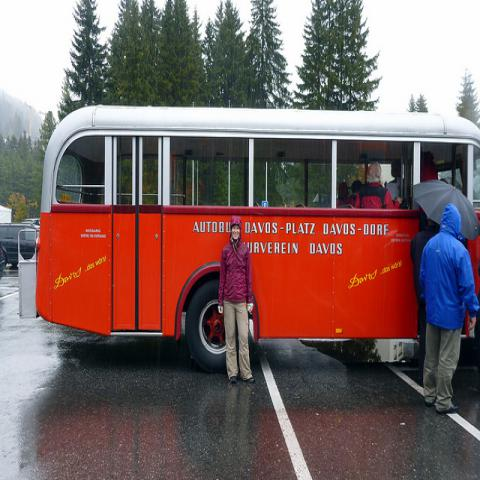bus: (18, 104, 479, 371)
car: (1, 224, 39, 267), (22, 218, 40, 225)
